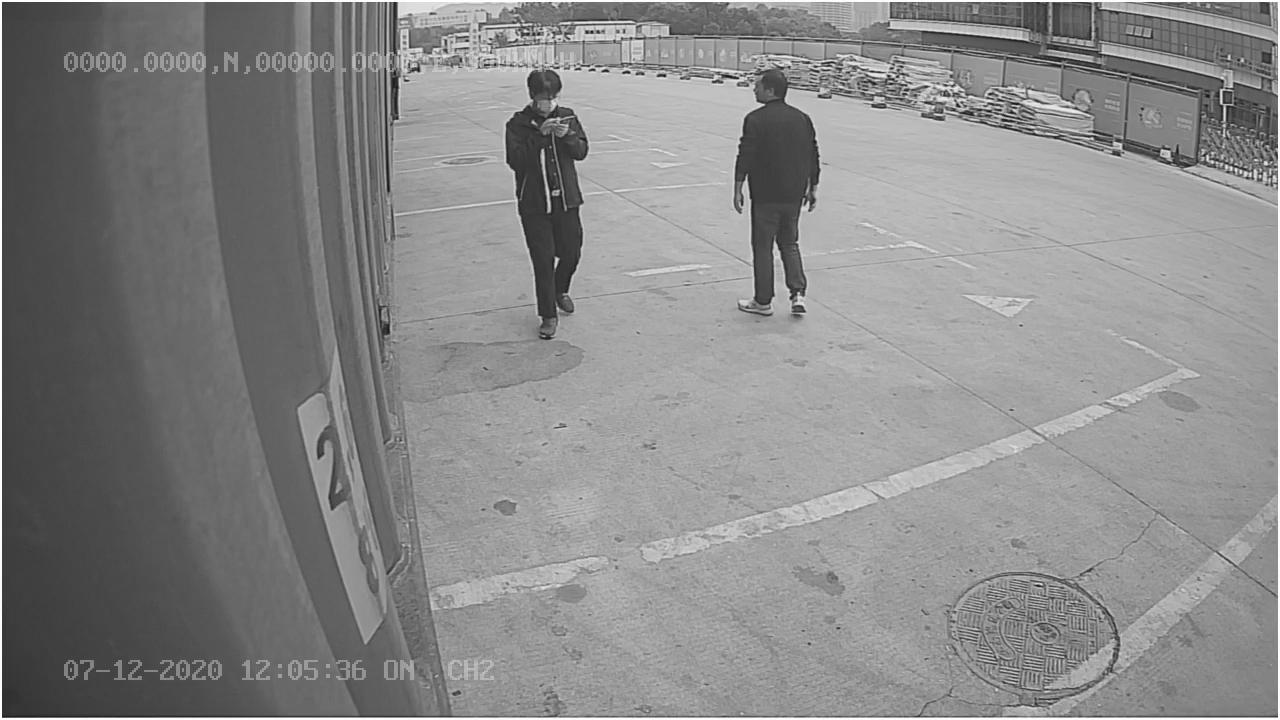person: (500, 65, 597, 342), (730, 67, 823, 321)
